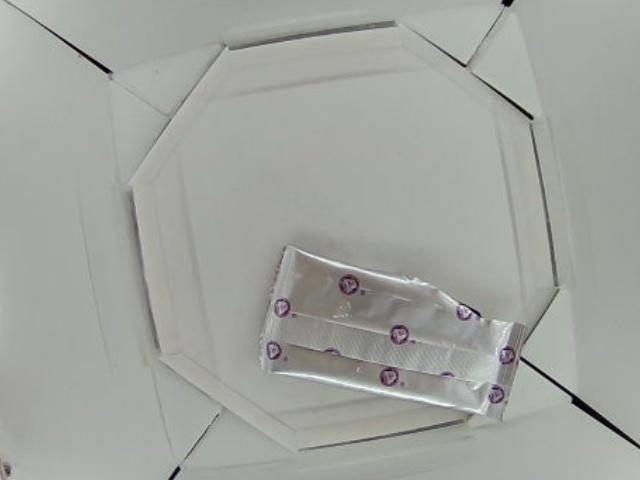Medicine: (259, 247, 528, 422)
